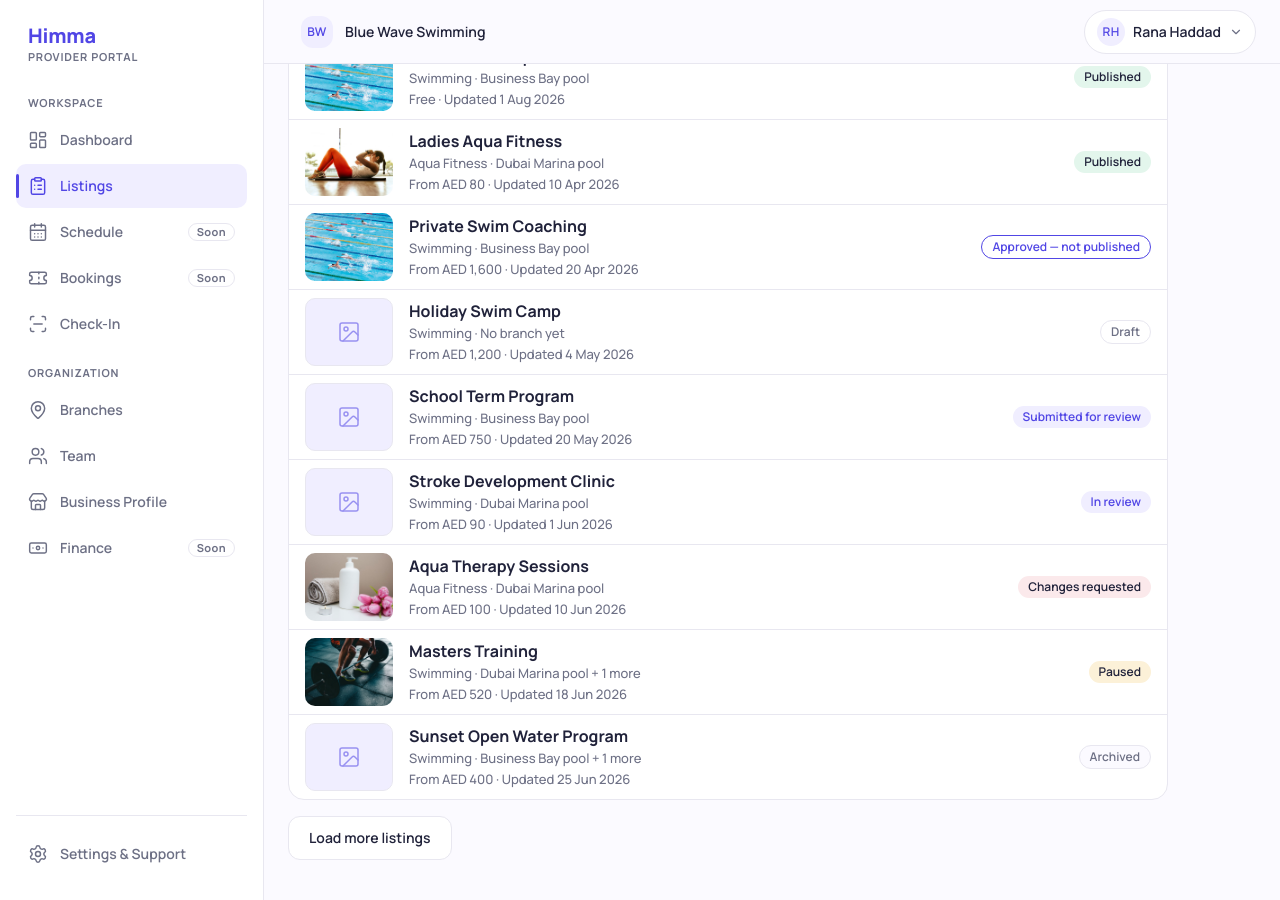
Test case: listings index (W2-7) › cursor pagination: Load more appends the rest and then disappears
(page scrolled)
Click the button "Load more listings" at [370, 838], box [288,816,452,860]
(page scrolled)
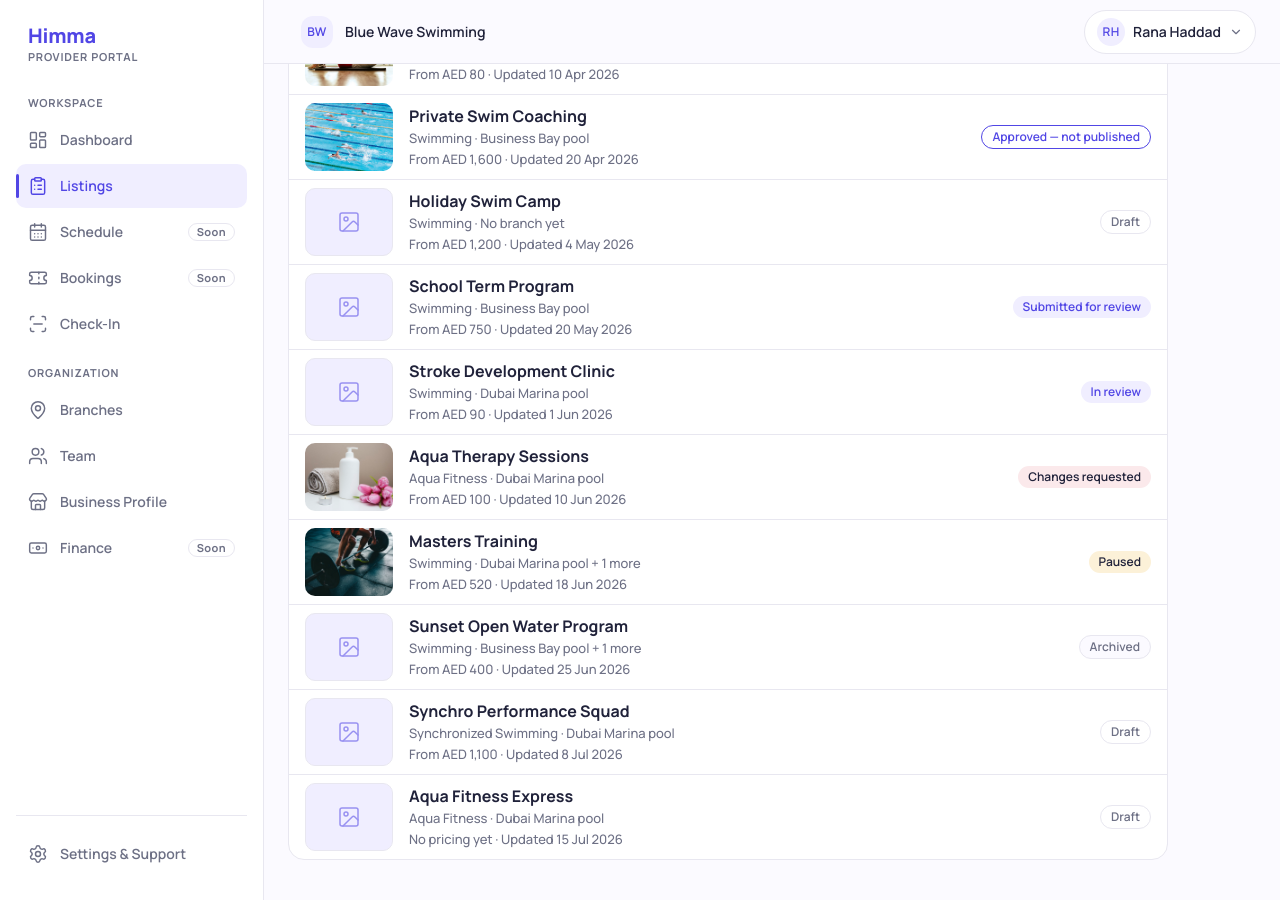
Now the text "Aqua Fitness Express" is shown, box [409,785,573,807]
Now the button "Load more listings" is gone
